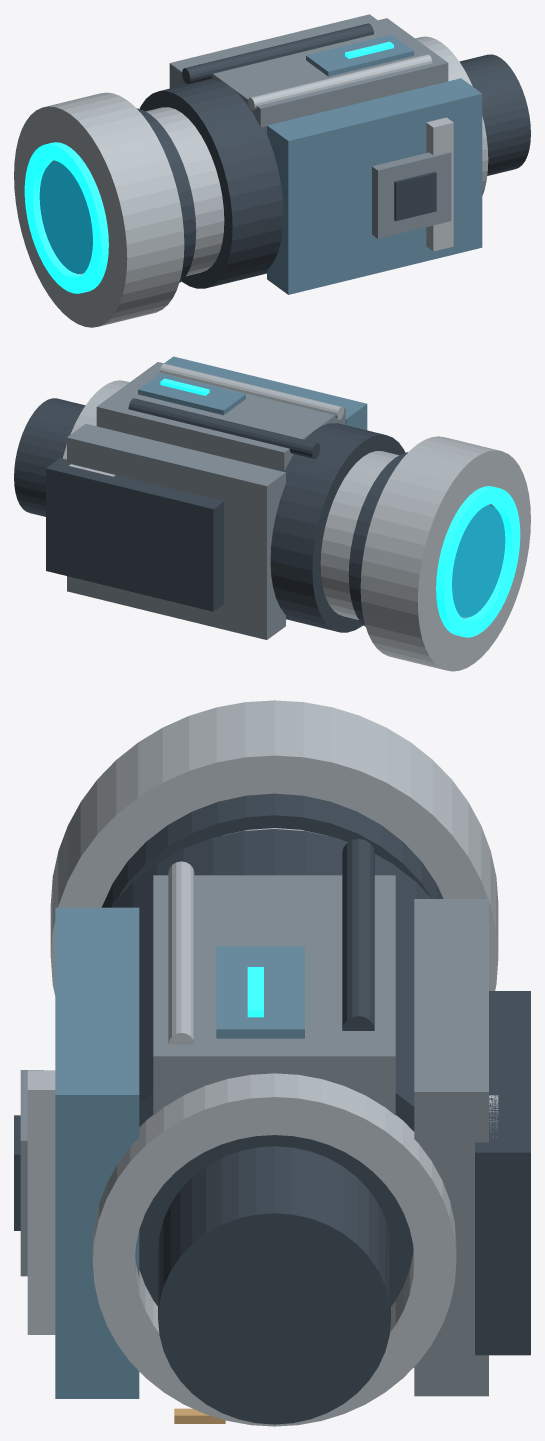
Rendered from engine1.glb.
3 views of the same model, one above another, from view 1: azimuth 30°, elevation 25°; view 2: azimuth 150°, elevation 25°; view 3: azimuth 270°, elevation 25° (orthographic). The views are drawn at different scales.
Visible parts, largest first — view 1: Upper blue armor, Outer exhaust bell, Main engine pressure chamber, Side armor cheek, Inner cyan exhaust ring, Forward mount connector, Nozzle neck, Deep exhaust cavity, Top service hatch, Fuel conduit, Side blue inset, Nozzle dark throat (+6 smaller); view 2: Outer exhaust bell, Compact ship mounting rail, Lower armor keel, Main engine pressure chamber, Side armor cheek, Inner cyan exhaust ring, Nozzle neck, Forward mount connector, Deep exhaust cavity, Fuel conduit, Upper blue armor, Side blue inset (+4 smaller); view 3: Forward mount connector, Outer exhaust bell, Forward mounting collar, Side armor cheek, Upper blue armor, Lower armor keel, Main engine pressure chamber, Compact ship mounting rail, Nozzle dark throat, Top cooling rib, Side blue inset, Fuel conduit (+3 smaller).
Boxes of the visible parts, box(x1,y1,x2,y2) form: Upper blue armor: box(267, 78, 482, 294); Outer exhaust bell: box(14, 92, 184, 327); Main engine pressure chamber: box(139, 79, 283, 288); Side armor cheek: box(199, 18, 448, 127); Inner cyan exhaust ring: box(24, 142, 108, 293); Forward mount connector: box(459, 54, 530, 175); Nozzle neck: box(145, 107, 224, 276); Deep exhaust cavity: box(39, 161, 92, 273); Top service hatch: box(372, 151, 451, 238); Fuel conduit: box(182, 23, 373, 84); Side blue inset: box(306, 34, 413, 76); Nozzle dark throat: box(136, 108, 196, 282); Outer exhaust bell: box(360, 436, 530, 671); Compact ship mounting rail: box(46, 458, 223, 611); Lower armor keel: box(67, 423, 285, 639); Main engine pressure chamber: box(97, 423, 405, 632); Side armor cheek: box(96, 362, 345, 471); Inner cyan exhaust ring: box(436, 486, 520, 637); Nozzle neck: box(320, 451, 398, 619); Forward mount connector: box(14, 398, 85, 516); Deep exhaust cavity: box(452, 505, 505, 617); Fuel conduit: box(128, 398, 320, 458); Upper blue armor: box(164, 356, 367, 430); Side blue inset: box(138, 373, 245, 415); Forward mount connector: box(158, 1146, 390, 1424); Outer exhaust bell: box(50, 700, 498, 995); Forward mounting collar: box(92, 1073, 456, 1426); Side armor cheek: box(153, 875, 395, 1115); Upper blue armor: box(55, 907, 139, 1398); Lower armor keel: box(414, 899, 488, 1396); Main engine pressure chamber: box(110, 829, 431, 1367); Compact ship mounting rail: box(475, 991, 530, 1355); Nozzle dark throat: box(101, 793, 443, 907); Top cooling rib: box(27, 1070, 55, 1334); Side blue inset: box(216, 946, 304, 1038); Fuel conduit: box(342, 838, 374, 1030).
Size of the model in its own units: 2.15 by 0.96 by 1.11.
